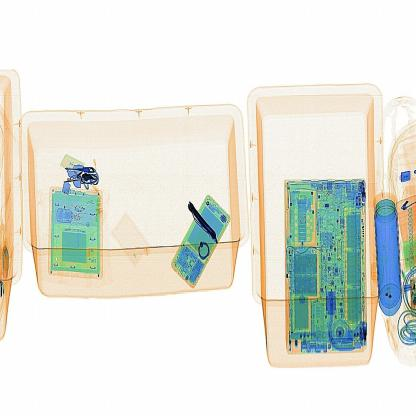knife: (174, 189, 234, 260)
